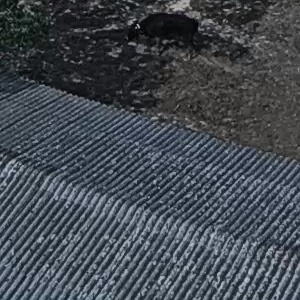cow: (124, 12, 220, 53)
